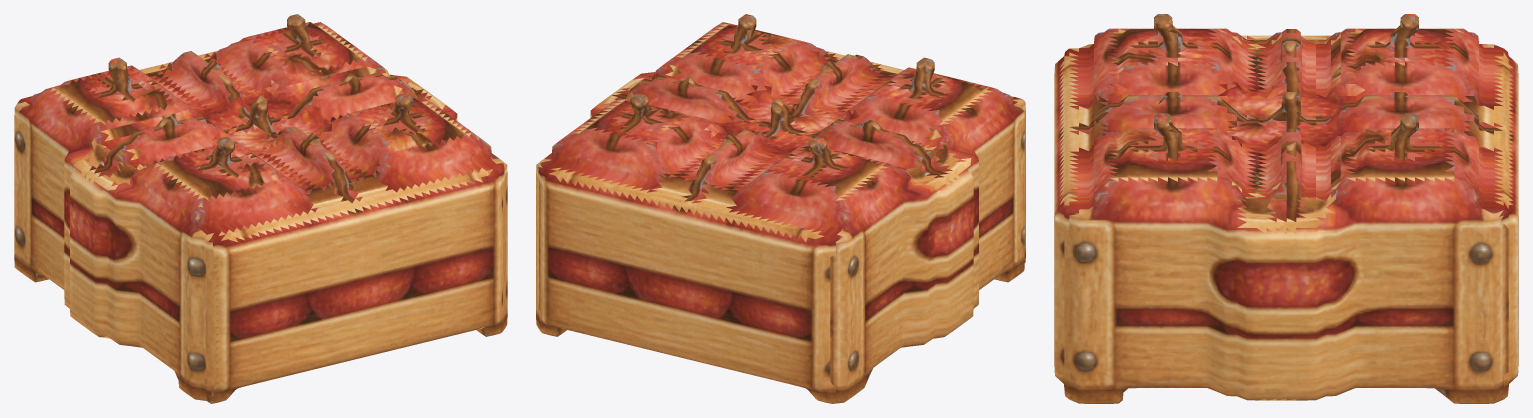
Rendered from apple-crate.glb.
3 renders of one model, left to right at view 1: azimuth 30°, elevation 25°; view 2: azimuth 150°, elevation 25°; view 3: azimuth 270°, elevation 25°, orthographic. The views are drawn at different scales.
Bounding box in the file's own units: 1.68 × 0.9975 × 1.66.
Materials: 1 (1 with a texture image).
